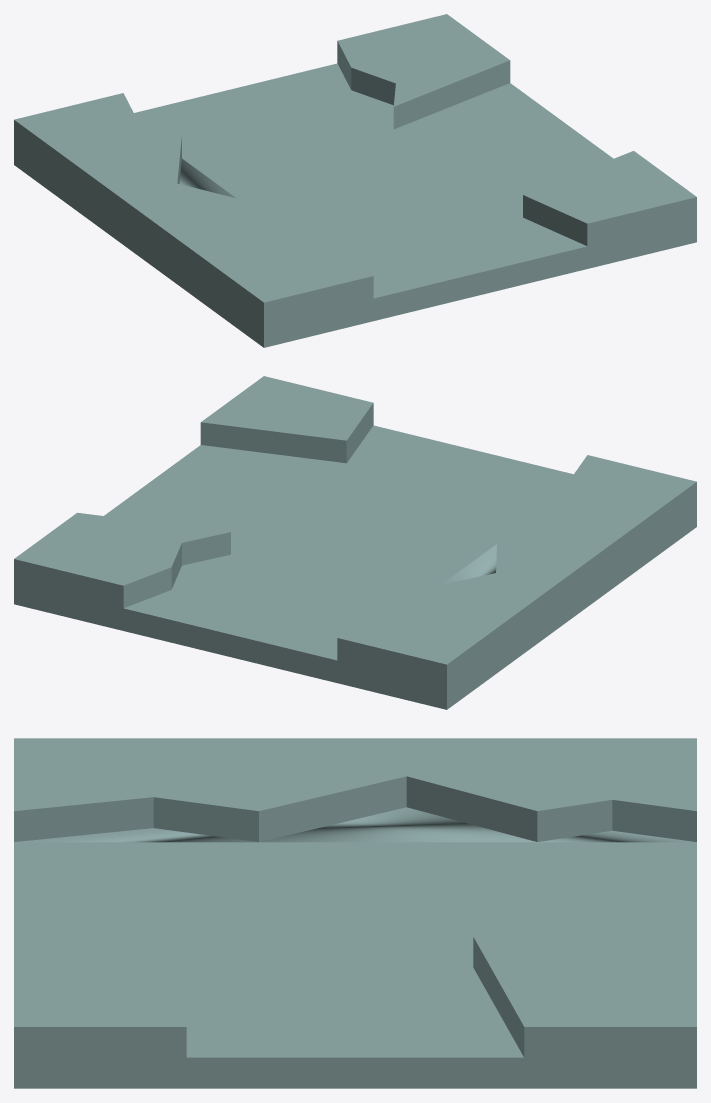
The model's file is naturePack_057.fbx.
3 renders of one model, top to bottom at view 1: azimuth 30°, elevation 25°; view 2: azimuth 150°, elevation 25°; view 3: azimuth 270°, elevation 25°, orthographic. The views are drawn at different scales.
Visible parts, largest first — view 1: naturePack_057; view 2: naturePack_057; view 3: naturePack_057.
Boxes of the visible parts, left/top/right/bottom form: naturePack_057: left=14, top=14, right=696, bottom=347; naturePack_057: left=14, top=376, right=696, bottom=709; naturePack_057: left=14, top=738, right=696, bottom=1088.
Size of the model in its own units: 300 by 30 by 300.
